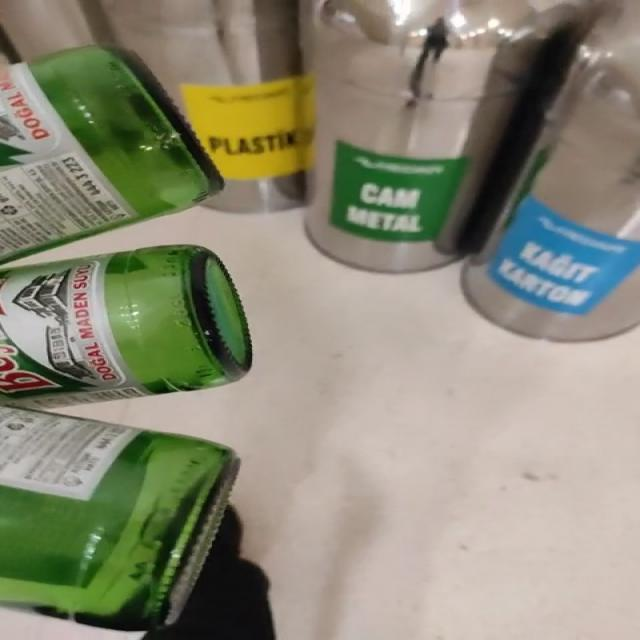Glass: (0, 245, 252, 632), (0, 44, 221, 261)
